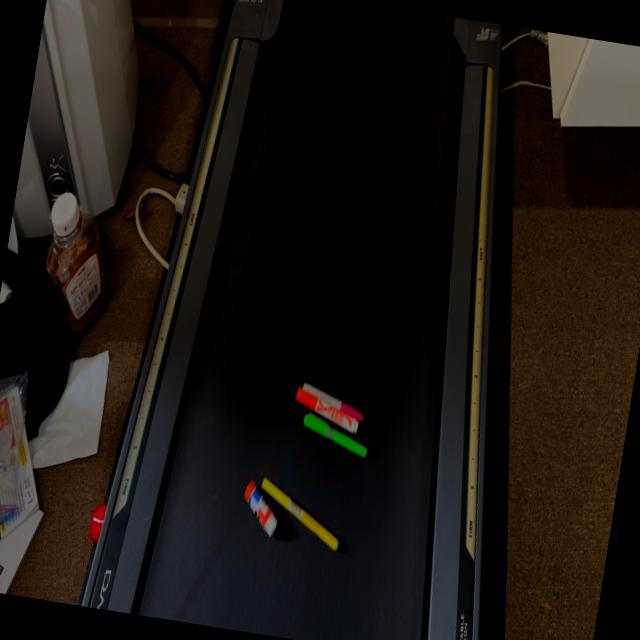Trash: (234, 374, 378, 566)
